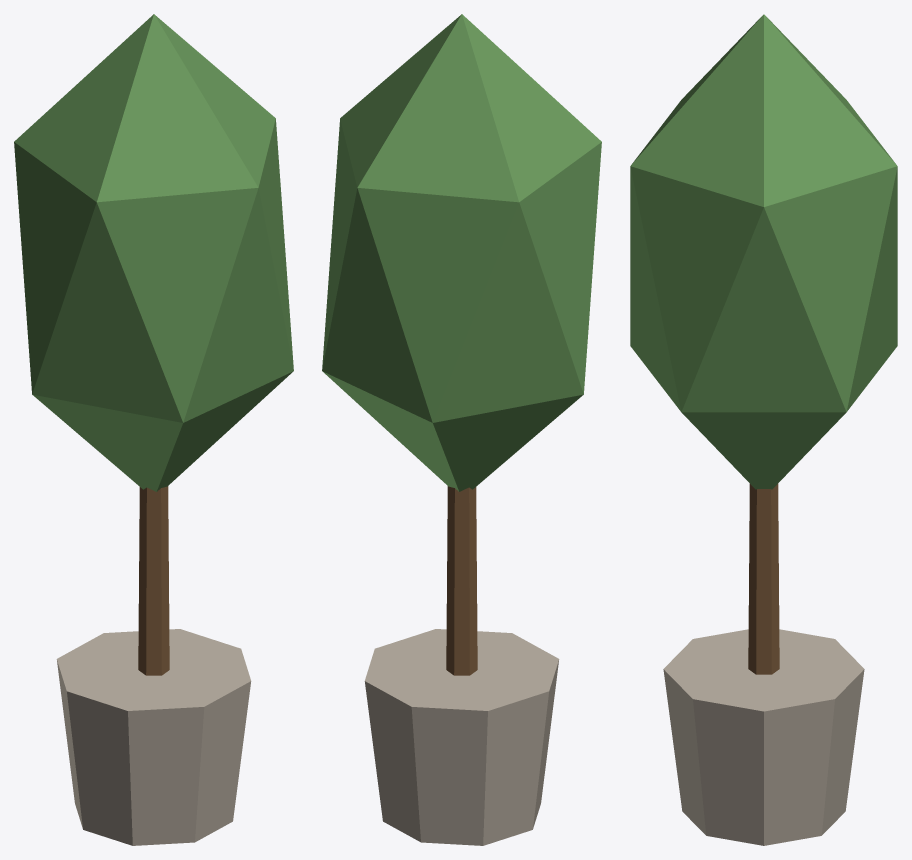
The model's file is objet_arbre_rond.glb.
The picture shows the model from 3 angles, left to right: view 1: azimuth 30°, elevation 25°; view 2: azimuth 150°, elevation 25°; view 3: azimuth 270°, elevation 25°; orthographic projection.
Parts seen in each view (by area): view 1: objet_arbre_rond; view 2: objet_arbre_rond; view 3: objet_arbre_rond.
Boxes of the visible parts, <box> form: objet_arbre_rond: <box>14,14,293,845</box>; objet_arbre_rond: <box>322,14,601,845</box>; objet_arbre_rond: <box>630,14,897,845</box>.
Bounding box in the file's own units: 0.8944 × 2.8 × 0.8506.
